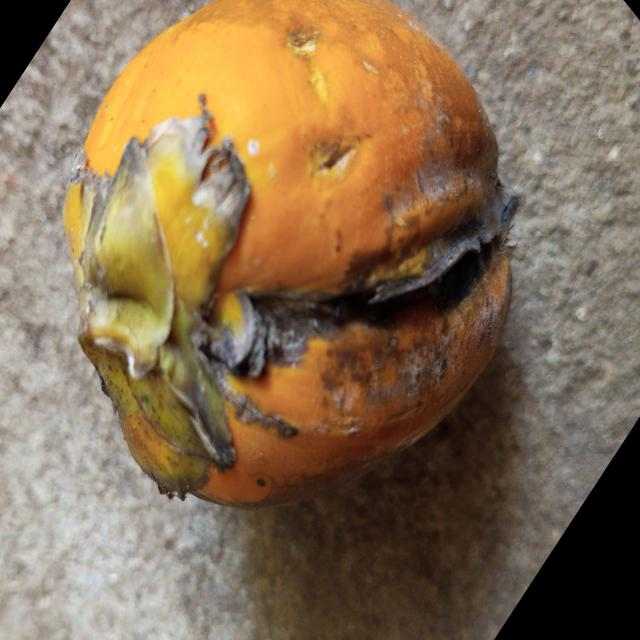damaged: (64, 0, 518, 504)
